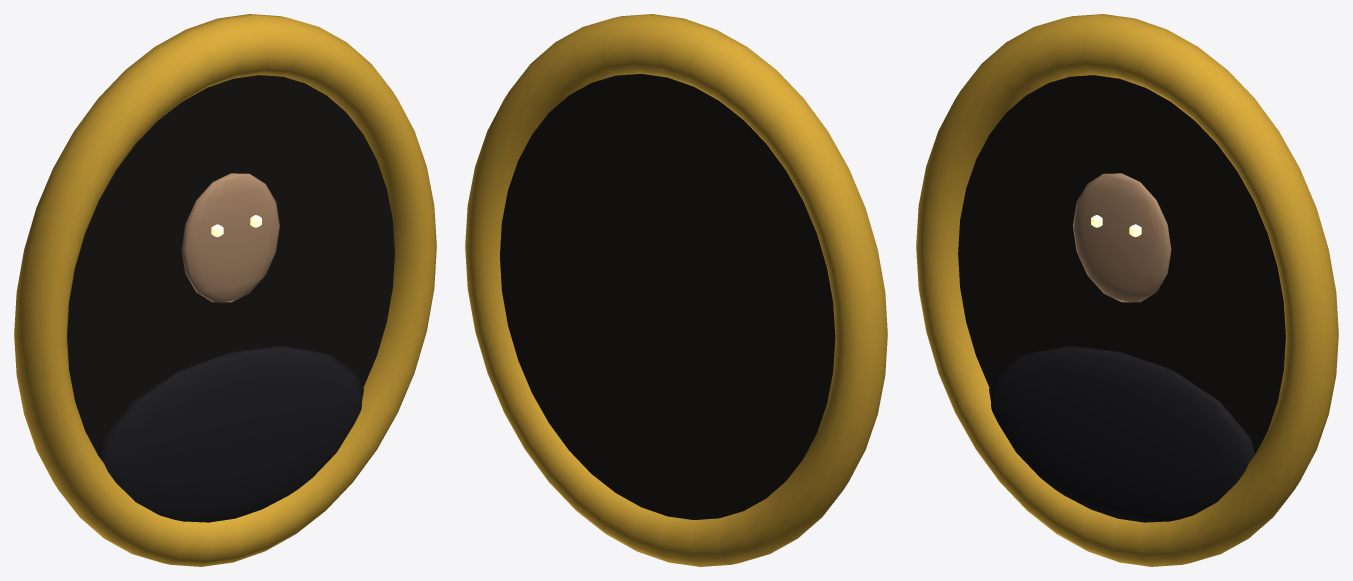
The model's file is portrait.glb.
3 renders of one model, left to right at view 1: azimuth 30°, elevation 25°; view 2: azimuth 150°, elevation 25°; view 3: azimuth 330°, elevation 25°, orthographic.
Parts seen in each view (by area): view 1: portrait; view 2: portrait; view 3: portrait.
Boxes of the visible parts, x1,y1,x2,y2 form: portrait: (14,14,436,566); portrait: (465,14,887,566); portrait: (916,14,1338,566).
Bounding box in the file's own units: 0.536 × 0.67 × 0.07.
